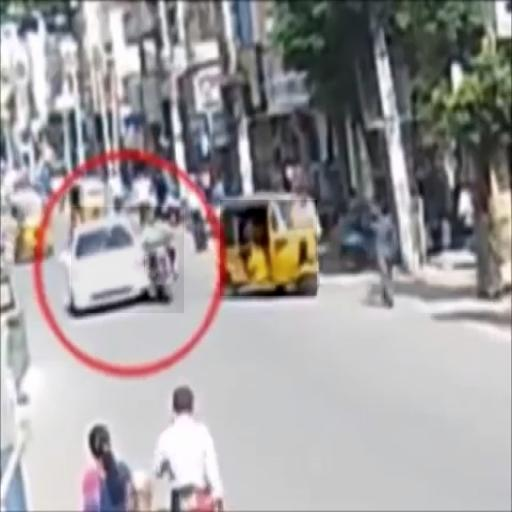小汽车: (220, 200, 317, 296)
小汽车撞自行车: (71, 207, 184, 313)
